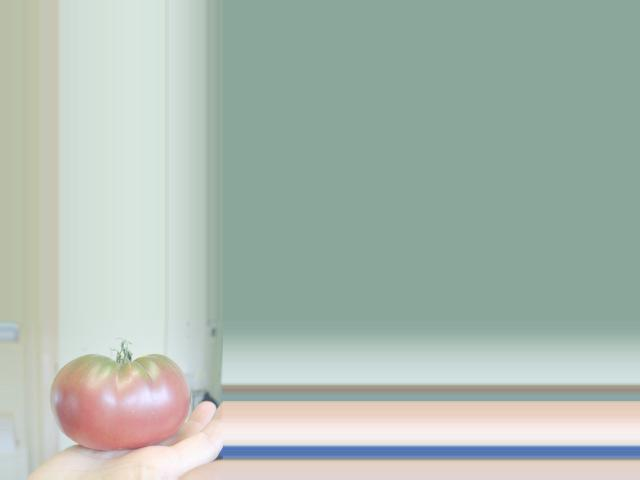tomato: (49, 353, 190, 450)
